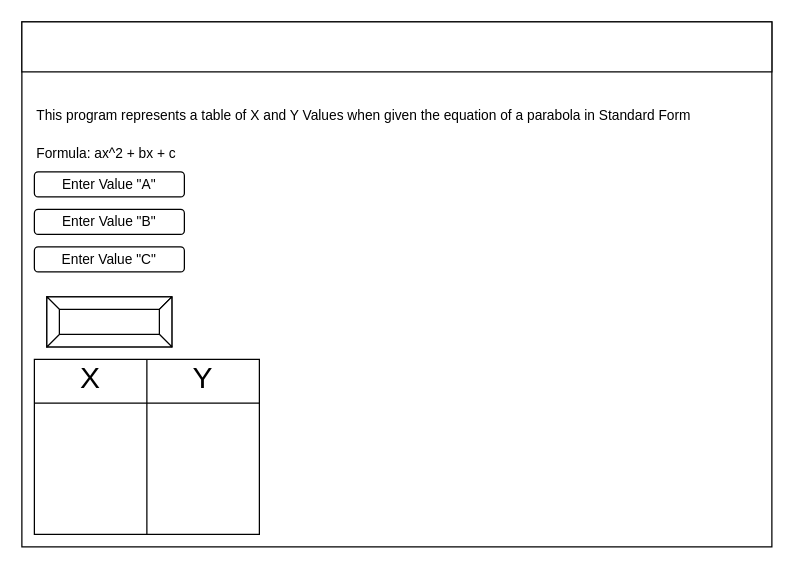
Image size: 794x569. Some labels were removed from this diagram. The shapes that lost their labels are listed below. From the top down, each one's box as (x1, y1, x2, y2) in pixels, then its label:
(21, 21, 772, 72): Parabola Calculator
(46, 296, 172, 347): Calculate
